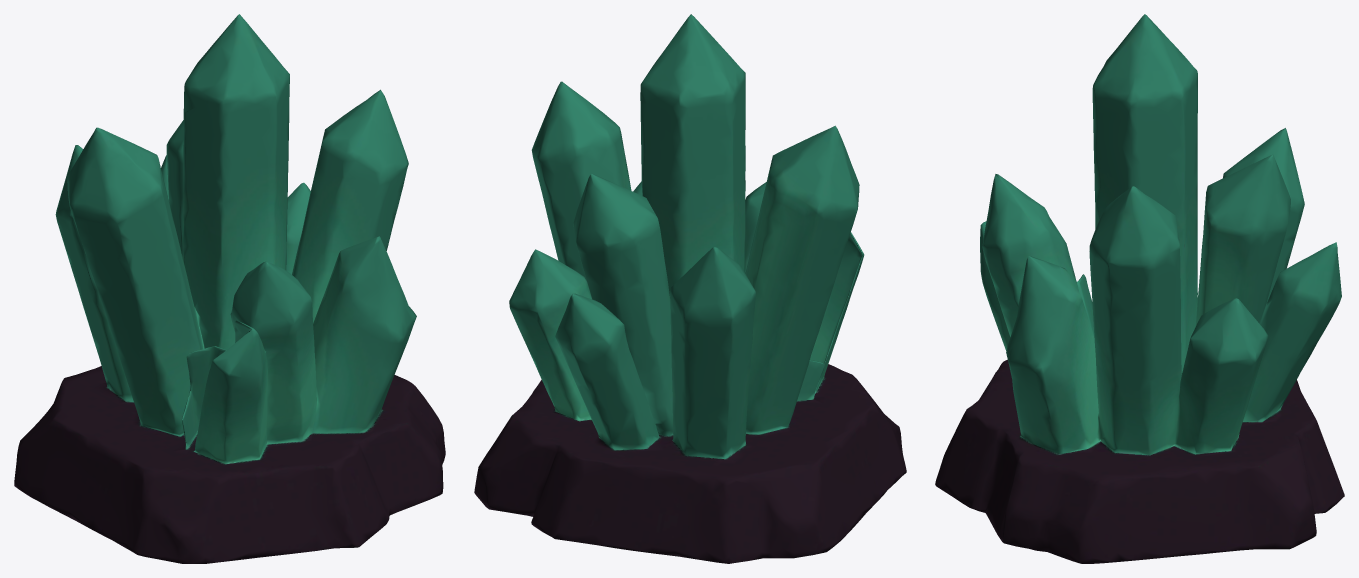
File: mithril-node.glb
3 renders of one model, left to right at view 1: azimuth 30°, elevation 25°; view 2: azimuth 150°, elevation 25°; view 3: azimuth 270°, elevation 25°, orthographic.
Visible parts, largest first — view 1: world; view 2: world; view 3: world.
Part boxes in pixels (<box>): world: <box>14,14,445,563</box>; world: <box>474,14,906,563</box>; world: <box>935,14,1344,563</box>.
Bounding box in the file's own units: 0.8063 × 1 × 0.8015.
1 material, 1 textured.
